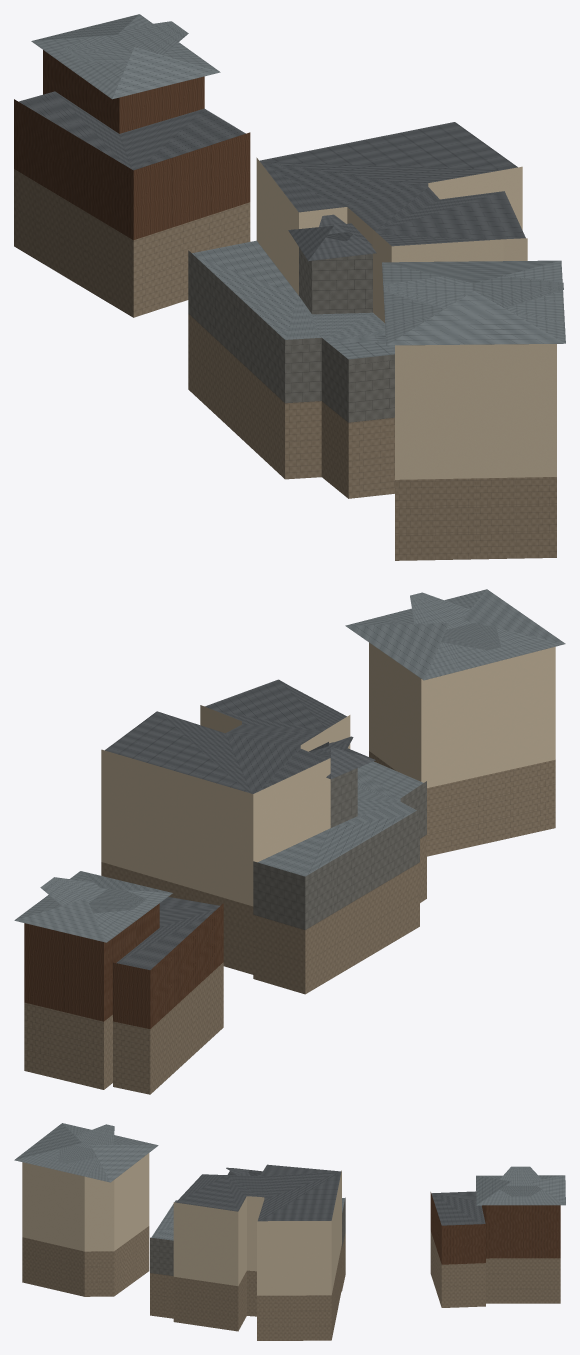
The model's file is bld_c32_-23_538.gltf.
3 renders of one model, top to bottom at view 1: azimuth 30°, elevation 25°; view 2: azimuth 150°, elevation 25°; view 3: azimuth 270°, elevation 25°, orthographic. The views are drawn at different scales.
Parts seen in each view (by area): view 1: bld_c32_-23_538; view 2: bld_c32_-23_538; view 3: bld_c32_-23_538.
Part boxes in pixels (bbox=[...]): bld_c32_-23_538: bbox=[14, 14, 565, 560]; bld_c32_-23_538: bbox=[14, 589, 565, 1094]; bld_c32_-23_538: bbox=[14, 1123, 565, 1340].
Bounding box in the file's own units: 20.44 × 16.3 × 56.3.
Materials: 9 (9 with a texture image).
